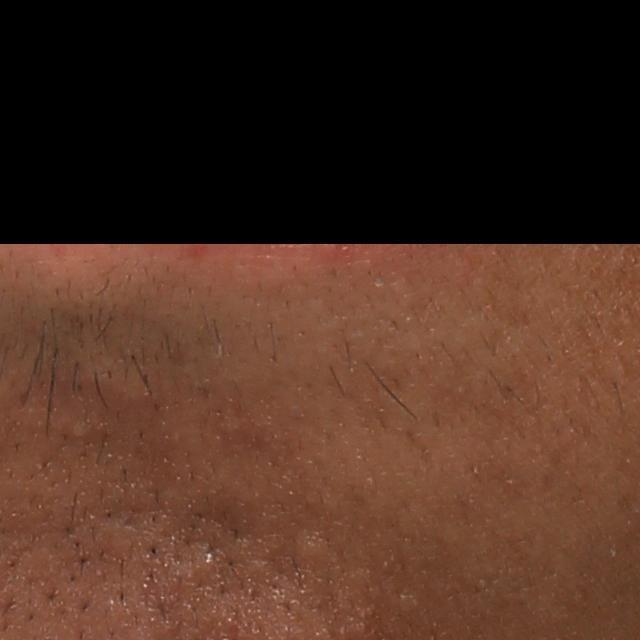hypertrophic_scar: (285, 524, 330, 564)
